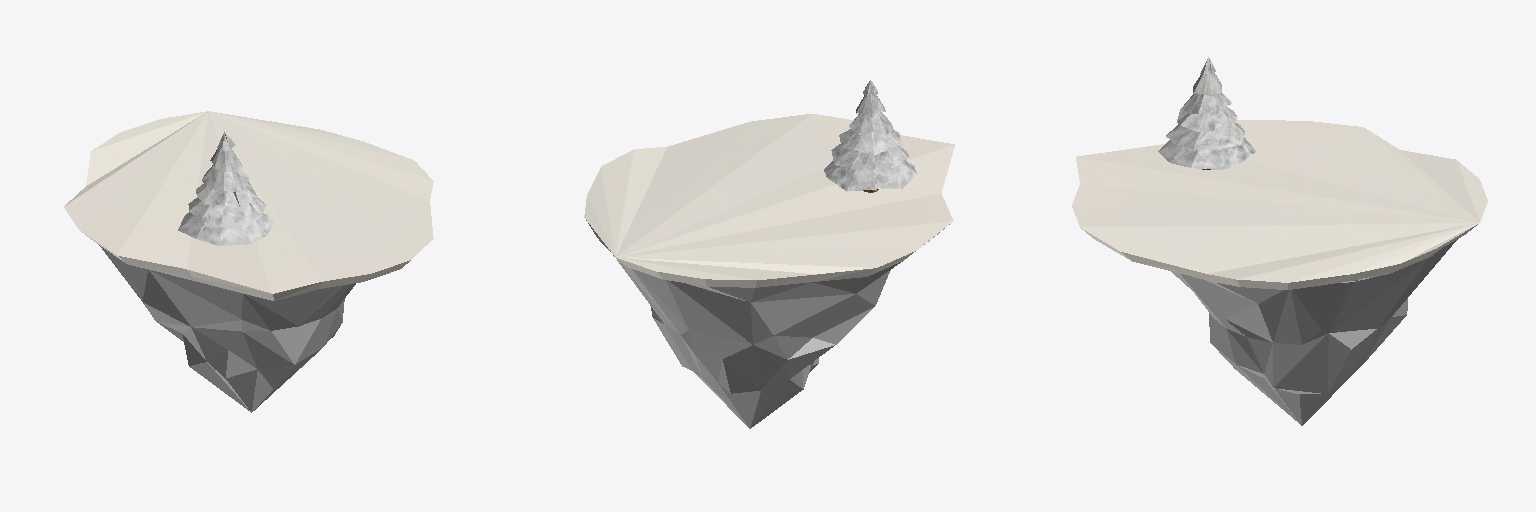
The picture shows the model from 3 angles: view 1: azimuth 30°, elevation 25°; view 2: azimuth 150°, elevation 25°; view 3: azimuth 270°, elevation 25°; orthographic projection.
Parts seen in each view (by area): view 1: Island_Grass_Cylinder.001, Island_Cylinder.001, Tree_Mid_Plant_Cylinder.001; view 2: Island_Grass_Cylinder.001, Island_Cylinder.001, Tree_Mid_Plant_Cylinder.001; view 3: Island_Grass_Cylinder.001, Island_Cylinder.001, Tree_Mid_Plant_Cylinder.001.
Part boxes in pixels (x1,y1,x2,y2): Island_Grass_Cylinder.001: (64, 111, 433, 300); Island_Cylinder.001: (99, 245, 355, 412); Tree_Mid_Plant_Cylinder.001: (178, 132, 273, 245); Island_Grass_Cylinder.001: (584, 114, 954, 287); Island_Cylinder.001: (616, 258, 902, 428); Tree_Mid_Plant_Cylinder.001: (824, 80, 916, 191); Island_Grass_Cylinder.001: (1072, 120, 1487, 289); Island_Cylinder.001: (1171, 239, 1457, 425); Tree_Mid_Plant_Cylinder.001: (1158, 57, 1255, 169).
Bounding box in the file's own units: 5.89 × 5.76 × 6.52.
Materials: 6 (3 with a texture image).